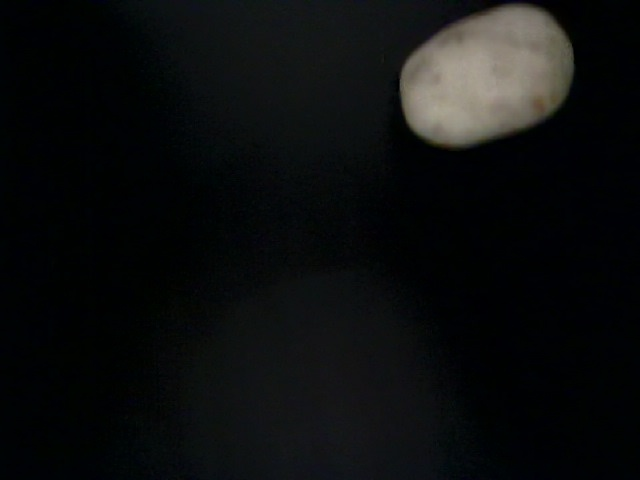KHSLJ: (188, 1, 495, 270)
